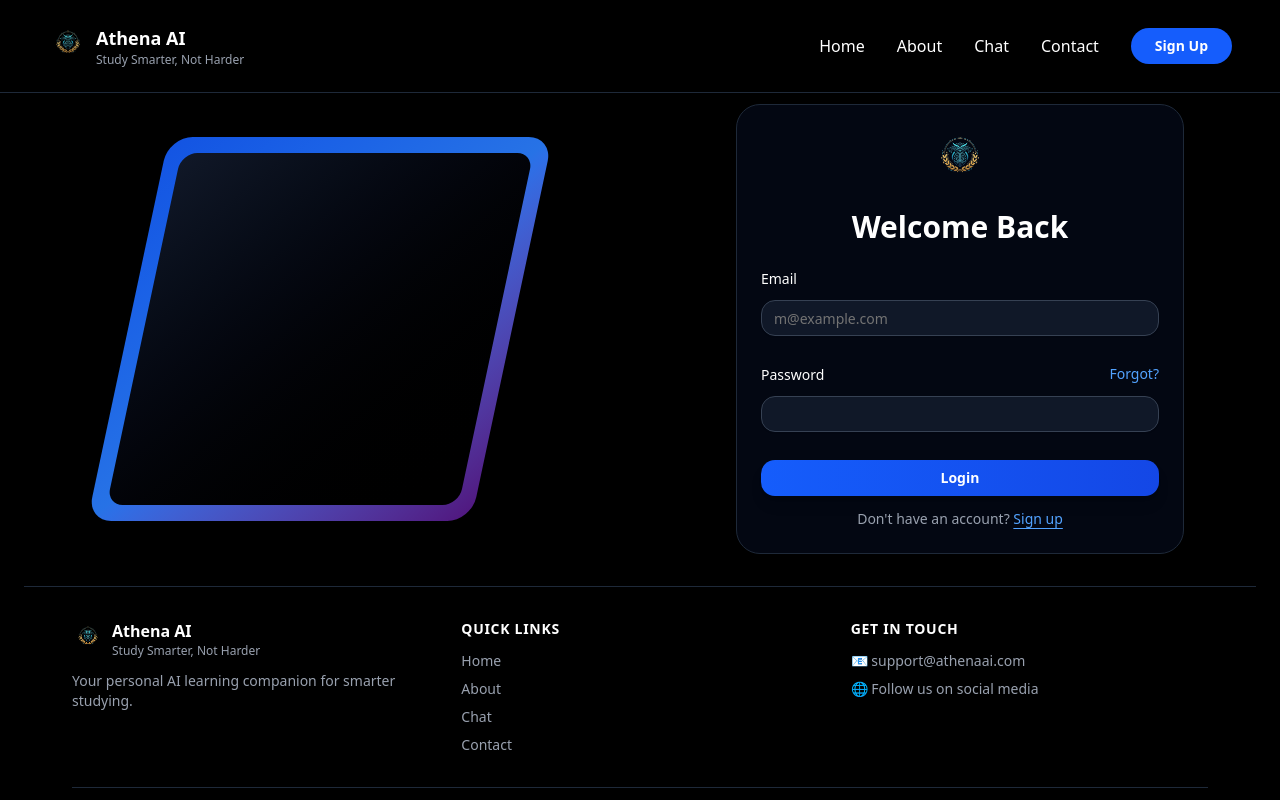
Test case: LoginForm › reports when the server is unreachable
The image size is (1280, 800).
In the field labelled "Email": (960, 318) top-left (761, 300), bottom-right (1159, 336), type "me@example.com"
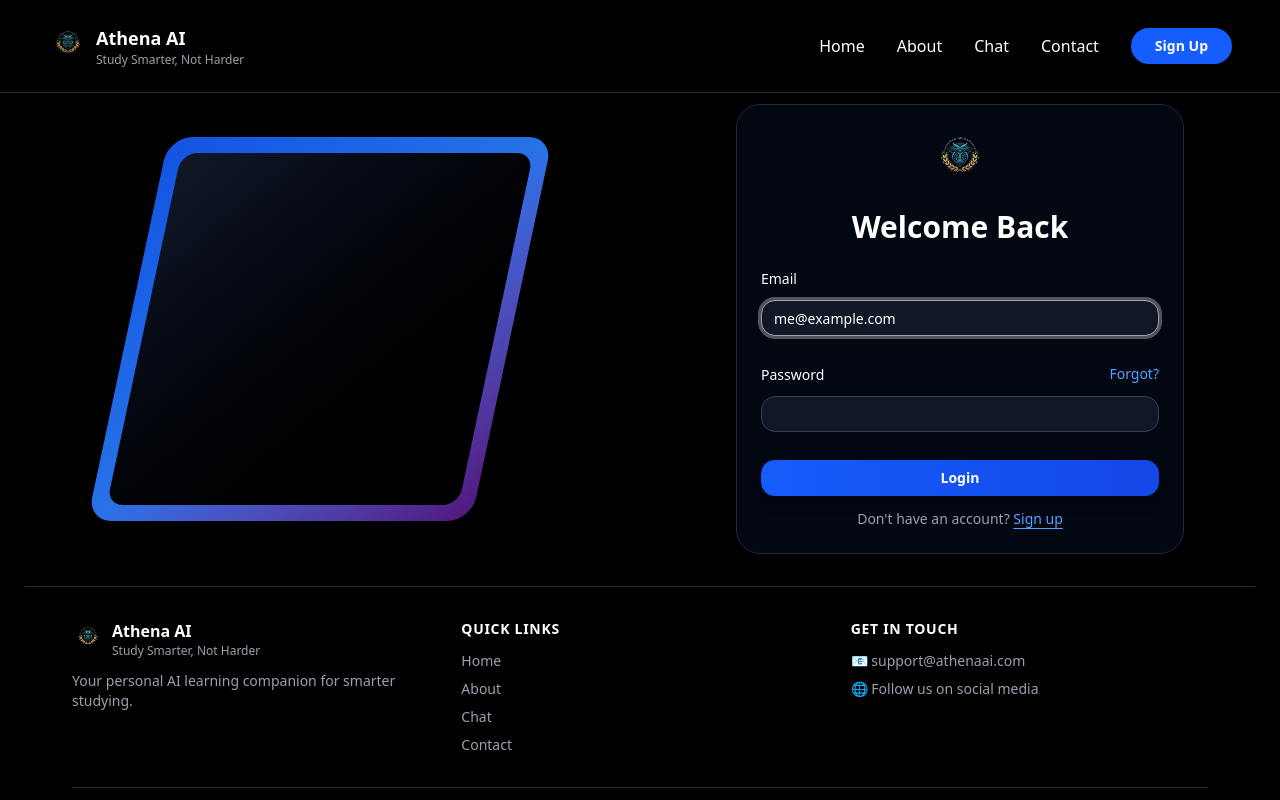
In the password field labelled "Password": (960, 414) top-left (761, 396), bottom-right (1159, 432), type "password123"
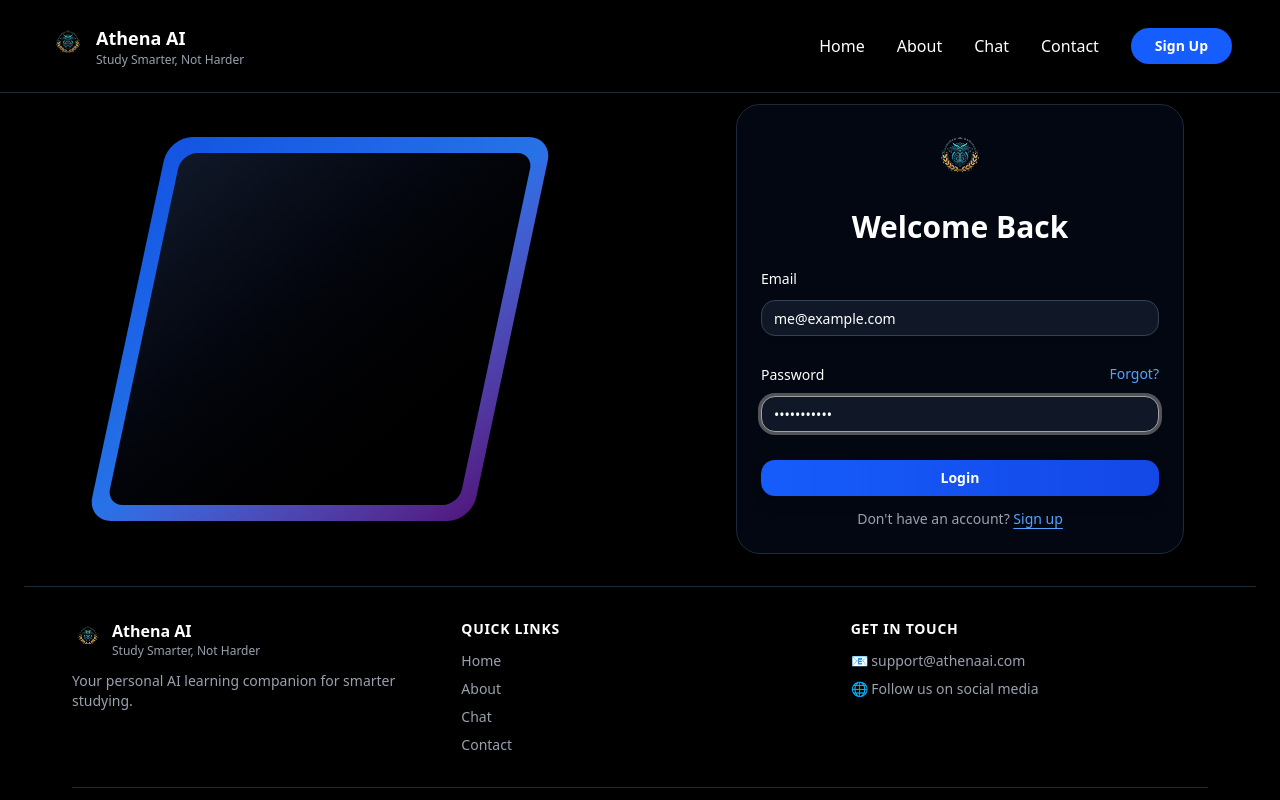
Click the submit button: (960, 478) top-left (761, 460), bottom-right (1159, 496)
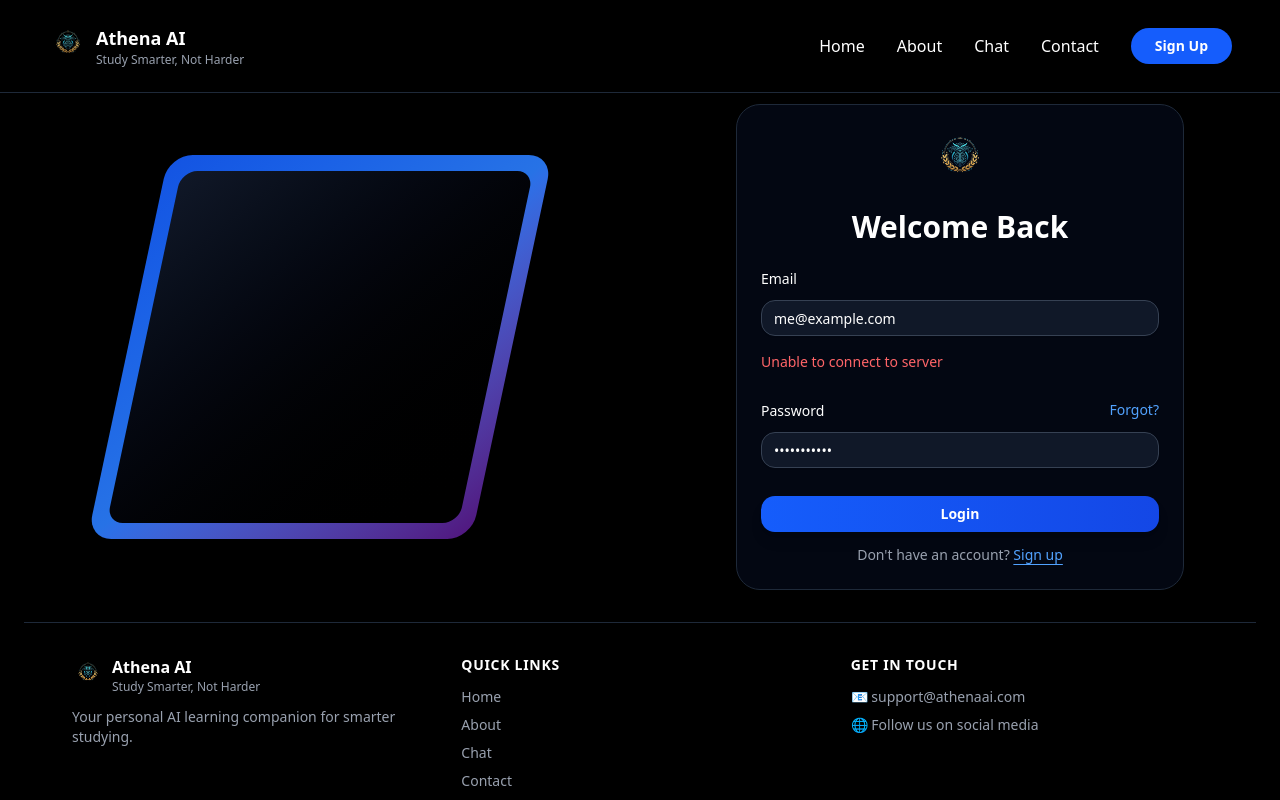
Result: the text "Unable to connect to server" is shown at top-left (761, 352), bottom-right (943, 371)
